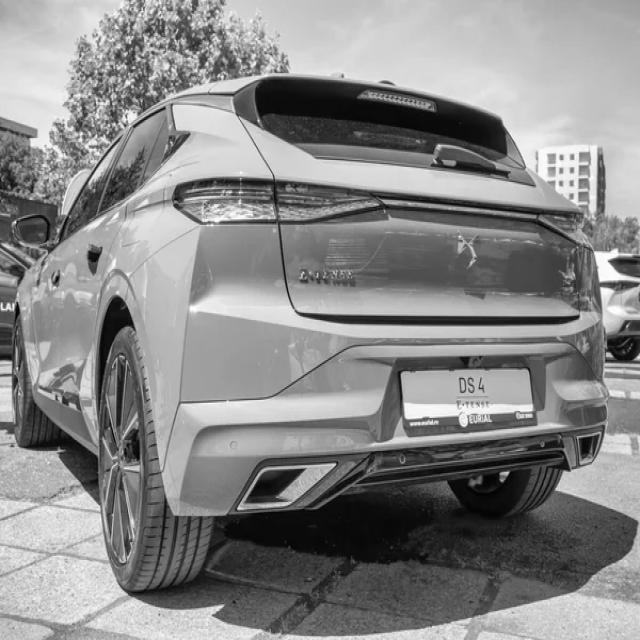Car: (11, 75, 609, 592)
